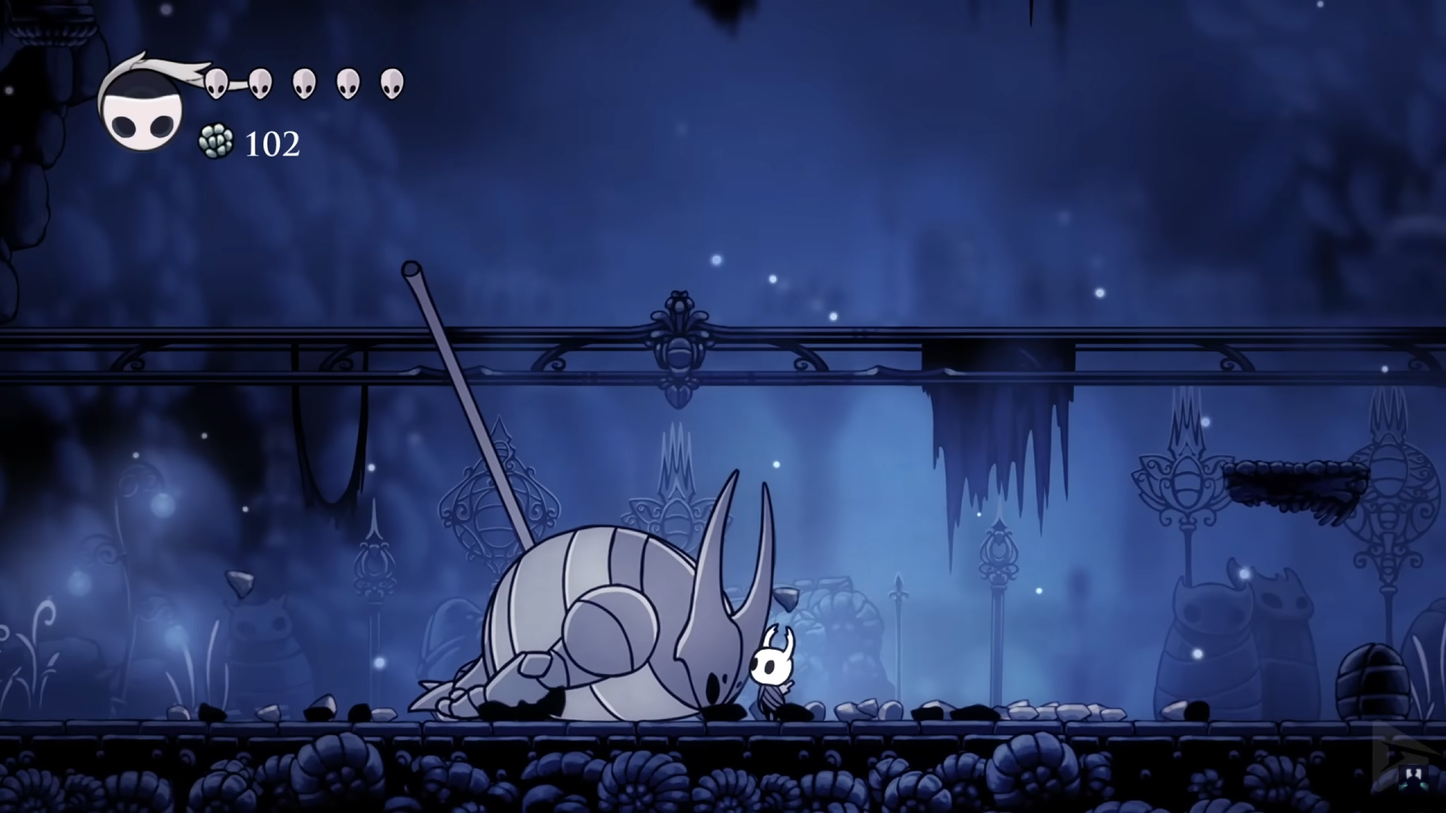HK: (740, 622, 798, 724)
